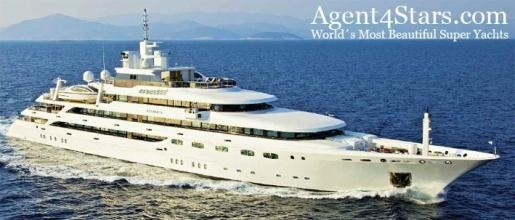yacht: (5, 41, 505, 205)
